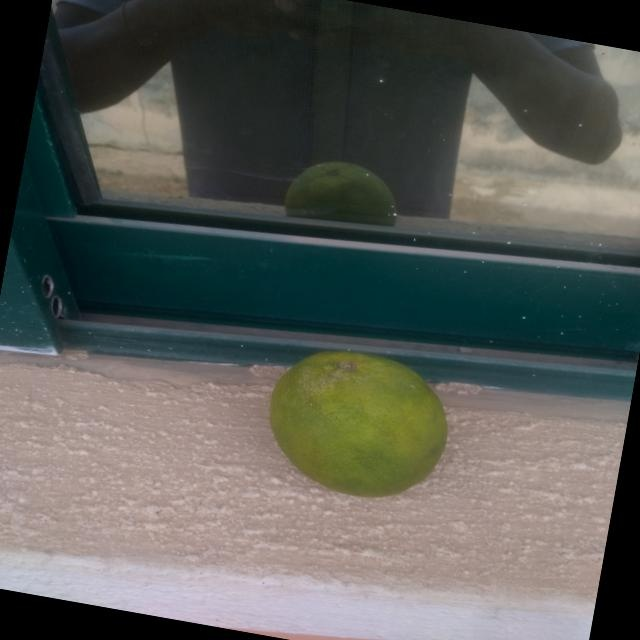agrume: (216, 315, 472, 537)
